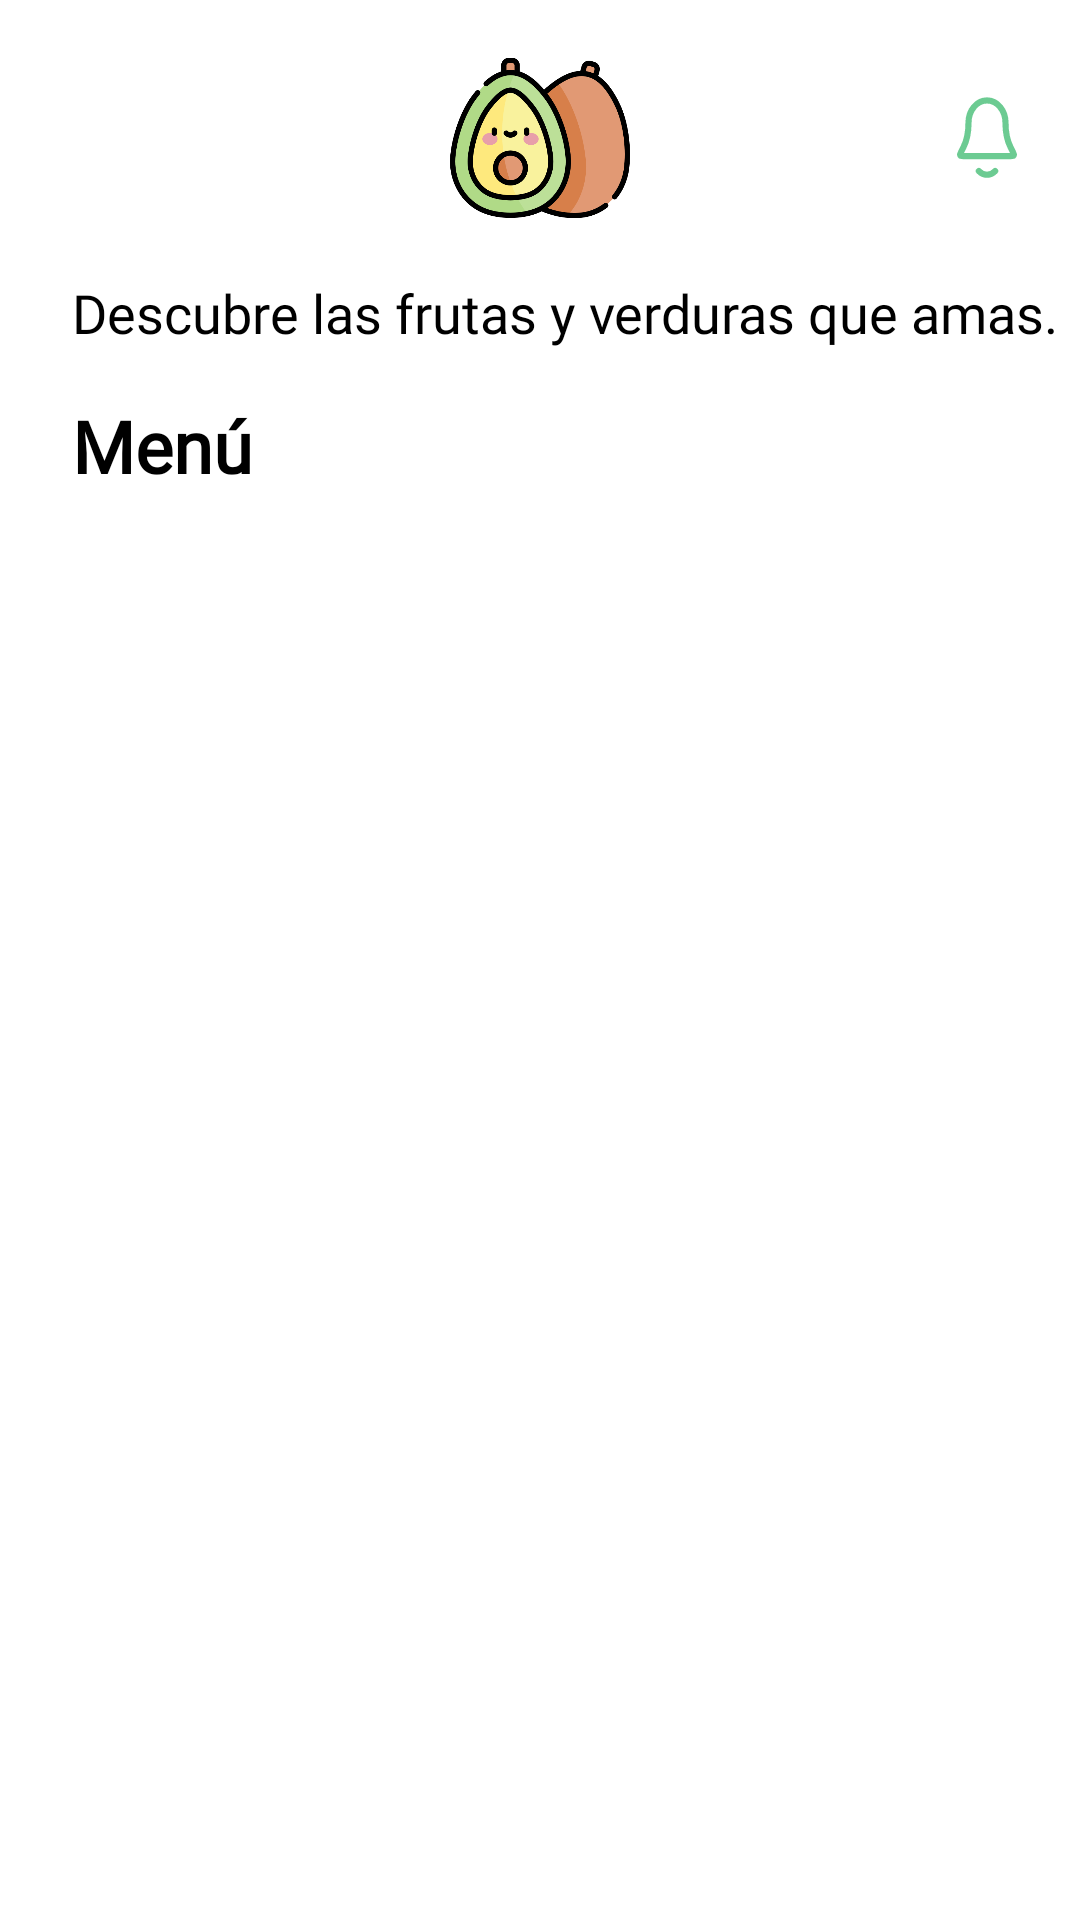

Where icons sit on this 1080 x 1920 app screen, as (x1, y1, x2, y2):
Notificaciones: (957, 97, 1017, 178)
